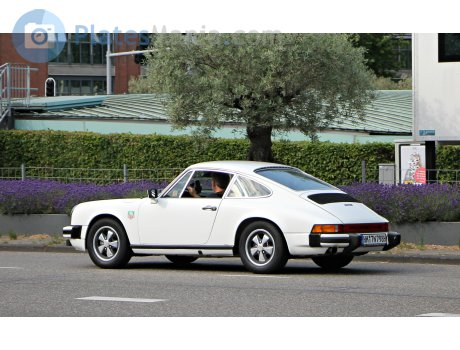License Plates: (363, 235, 388, 242)
